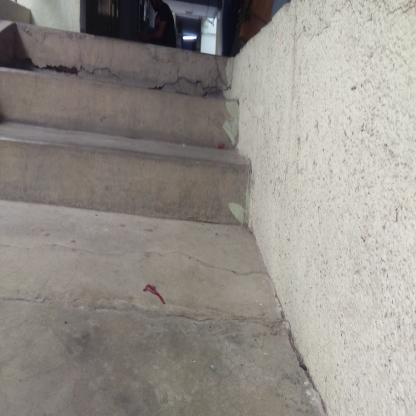stairs: (27, 28, 227, 233)
